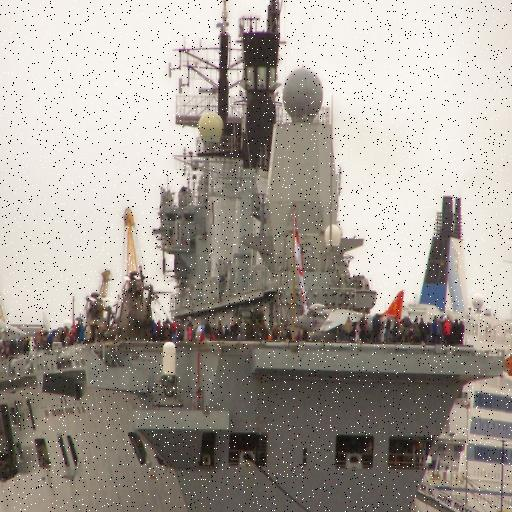Portanaves: (1, 1, 507, 512)
